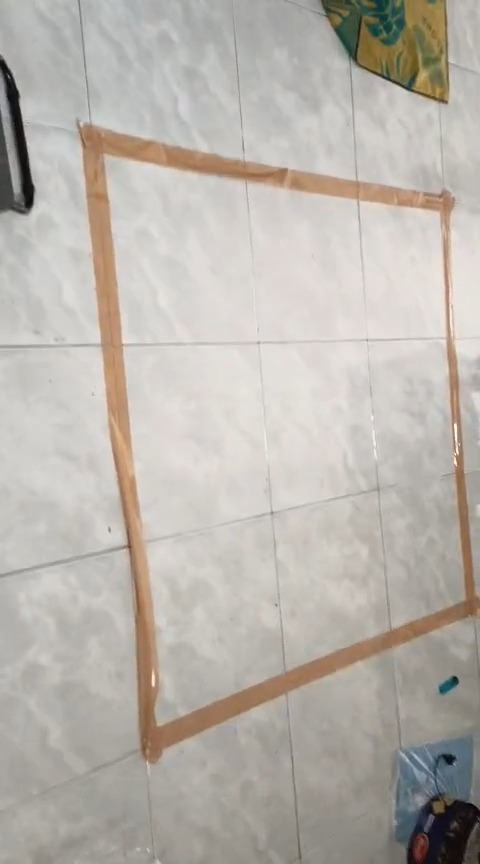floor marking: (79, 125, 479, 761)
